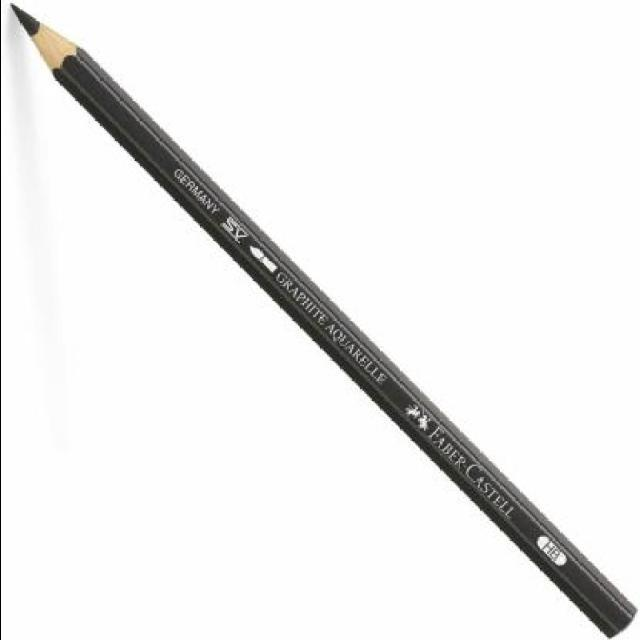pencil: (1, 0, 110, 102)
